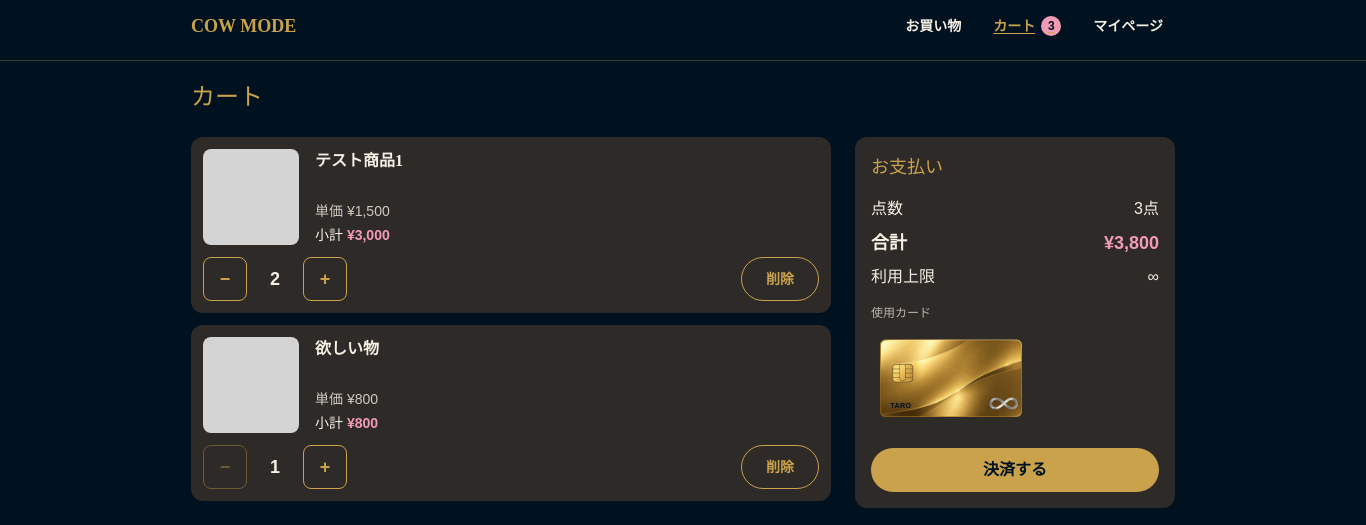
Scenario: CartPage(数量の変更) › 「+」で、小計・合計・点数・ヘッダーのバッジ・保存が更新される
Click the button named "テスト商品1の数量を増やす".
click(325, 279)  # box [303,257,347,301]
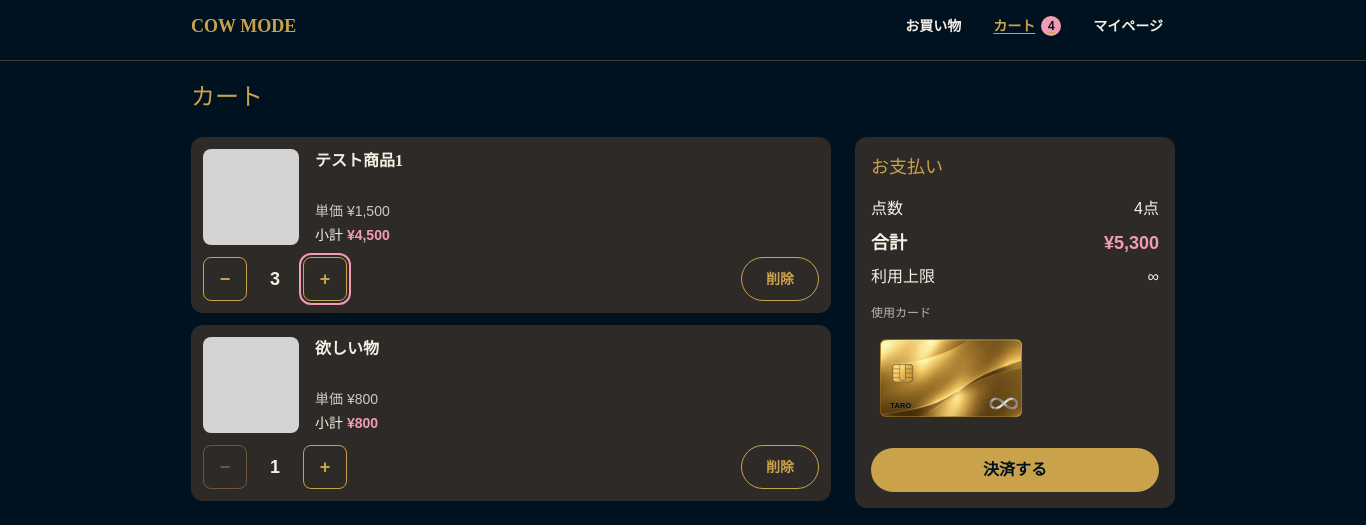
expect the text "¥4,500" is shown: met, box [347,227,390,243]
expect the text "¥5,300" is shown: met, box [1104,229,1159,257]
expect the text "4点" is shown: met, box [1134,197,1159,221]
